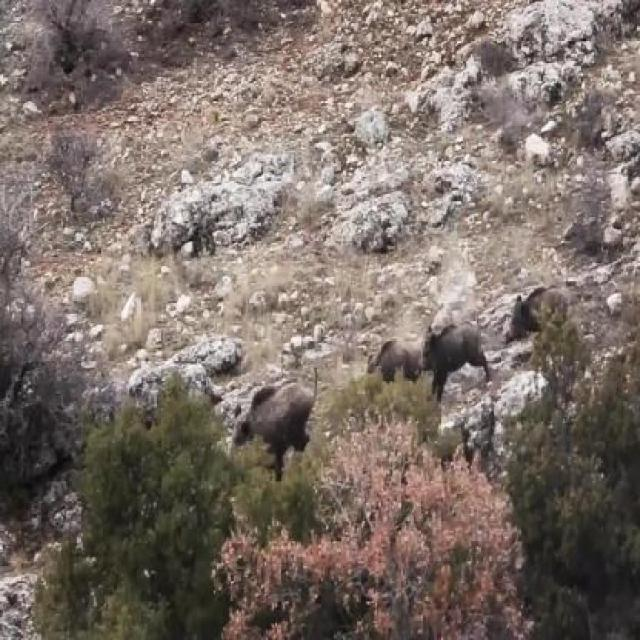pig: (218, 374, 327, 474), (418, 297, 492, 417), (502, 284, 582, 368), (355, 332, 431, 394)
